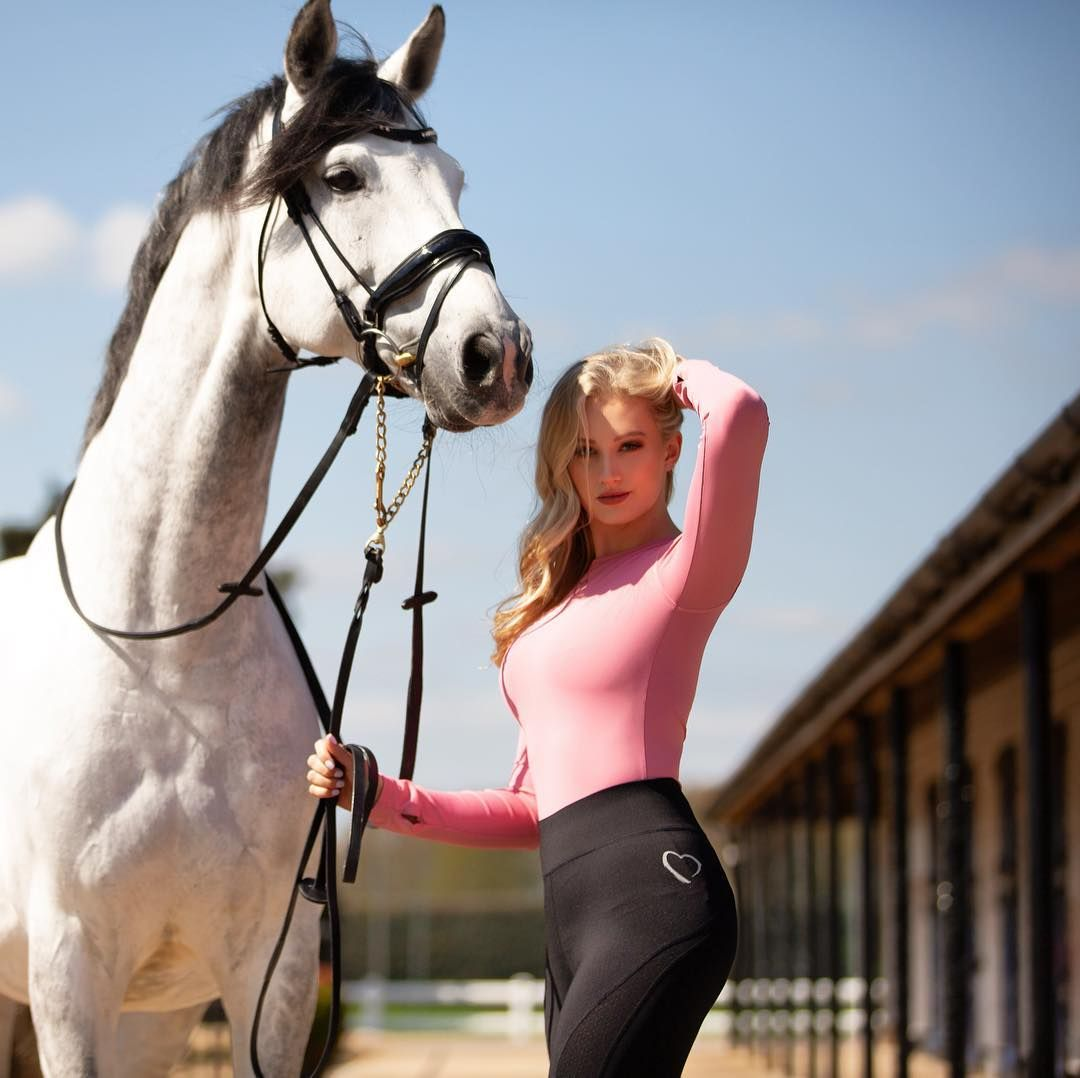Horse: (8, 9, 535, 1058)
Person: (486, 322, 769, 1062)
